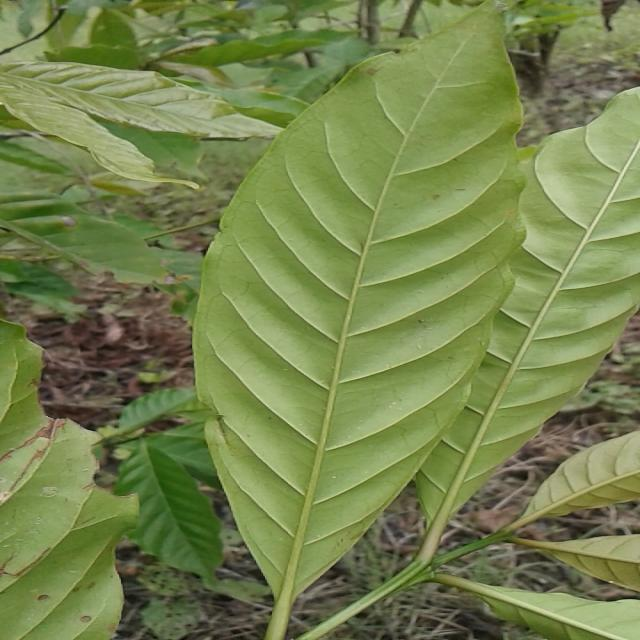Sanas: (192, 6, 535, 640)
